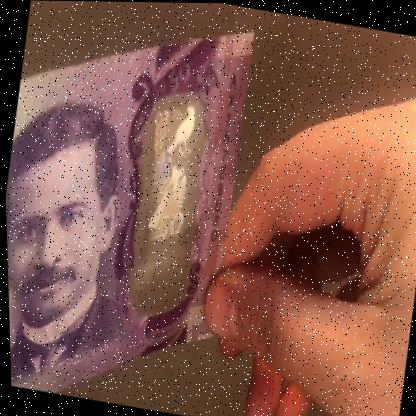50F: (124, 94, 210, 301)
